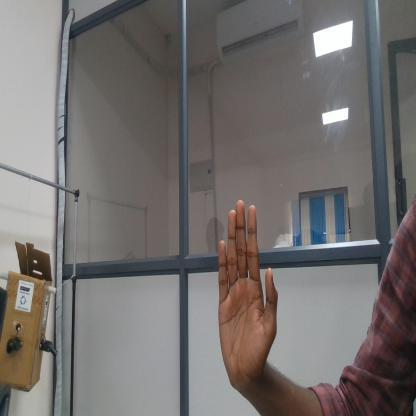Stop: (208, 195, 280, 399)
